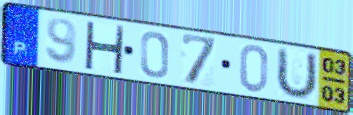0: (237, 43, 270, 94), (138, 30, 171, 79)
7: (180, 32, 219, 87)
9: (44, 18, 79, 66)
H: (82, 20, 127, 76)
U: (273, 45, 319, 101)
